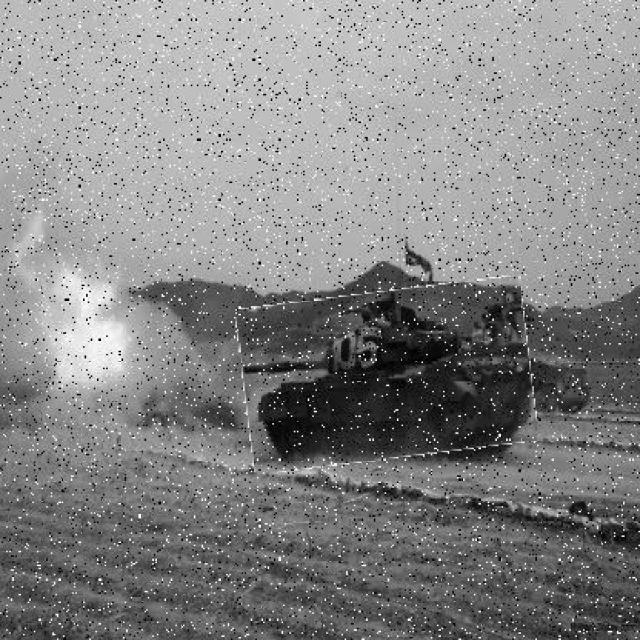Tank: (241, 286, 536, 467)
